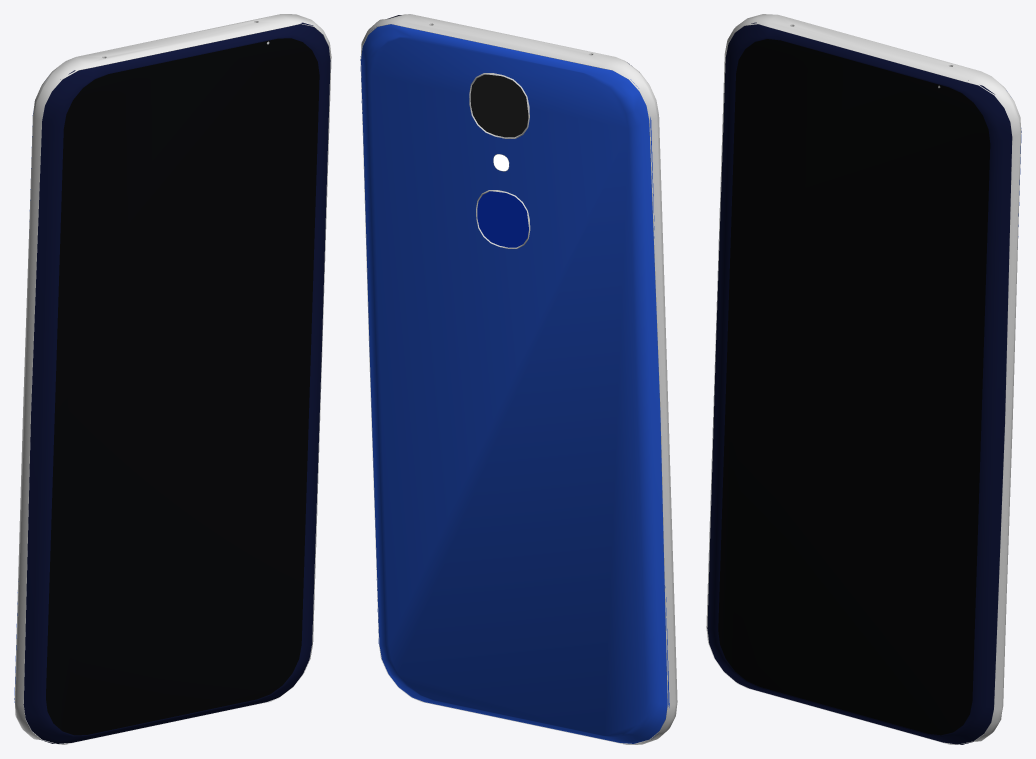
The model's file is dev-smartphone_lod1.glb.
The picture shows the model from 3 angles, left to right: view 1: azimuth 30°, elevation 25°; view 2: azimuth 150°, elevation 25°; view 3: azimuth 330°, elevation 25°; orthographic projection.
Visible parts, largest first — view 1: body; view 2: body; view 3: body.
Part boxes in pixels (x1,y1,x2,y2): body: (14,14,331,744); body: (360,14,677,744); body: (706,14,1021,744).
Size of the model in its own units: 0.0761 by 0.1578 by 0.00873.
